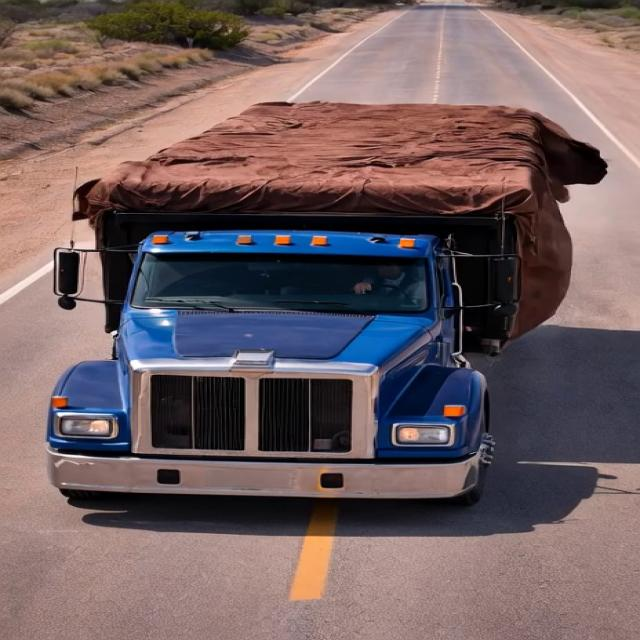trailer: (85, 93, 572, 213)
truck: (27, 67, 610, 514)
